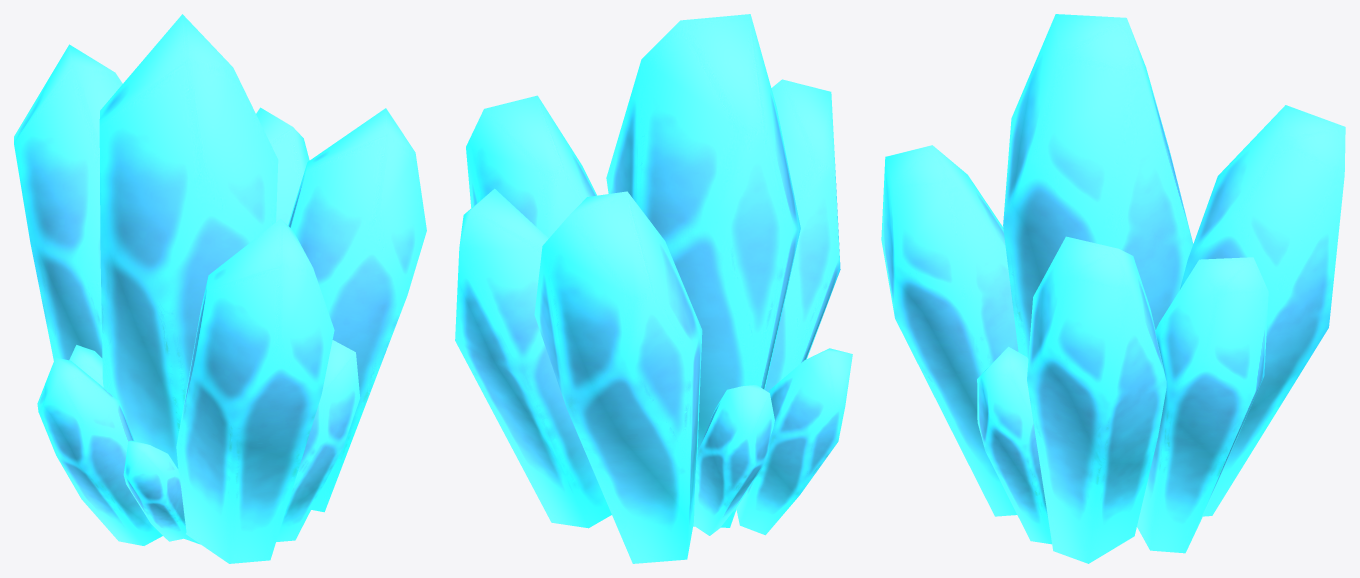
File: minerals.glb
3 views of the same model, side by side, from view 1: azimuth 30°, elevation 25°; view 2: azimuth 150°, elevation 25°; view 3: azimuth 270°, elevation 25° (orthographic). The views are drawn at different scales.
Parts seen in each view (by area): view 1: 1.001_Default OBJ_0, 1.000_Default OBJ_0; view 2: 1.001_Default OBJ_0, 1.000_Default OBJ_0; view 3: 1.001_Default OBJ_0, 1.000_Default OBJ_0.
Part boxes in pixels (left/top/right/bottom): 1.001_Default OBJ_0: left=14, top=44, right=426, bottom=563; 1.000_Default OBJ_0: left=99, top=14, right=278, bottom=544; 1.001_Default OBJ_0: left=455, top=79, right=852, bottom=563; 1.000_Default OBJ_0: left=606, top=14, right=800, bottom=527; 1.001_Default OBJ_0: left=881, top=105, right=1345, bottom=563; 1.000_Default OBJ_0: left=1003, top=14, right=1193, bottom=358.
Bounding box in the file's own units: 186 × 246 × 209.
Materials: 1 (1 with a texture image).
